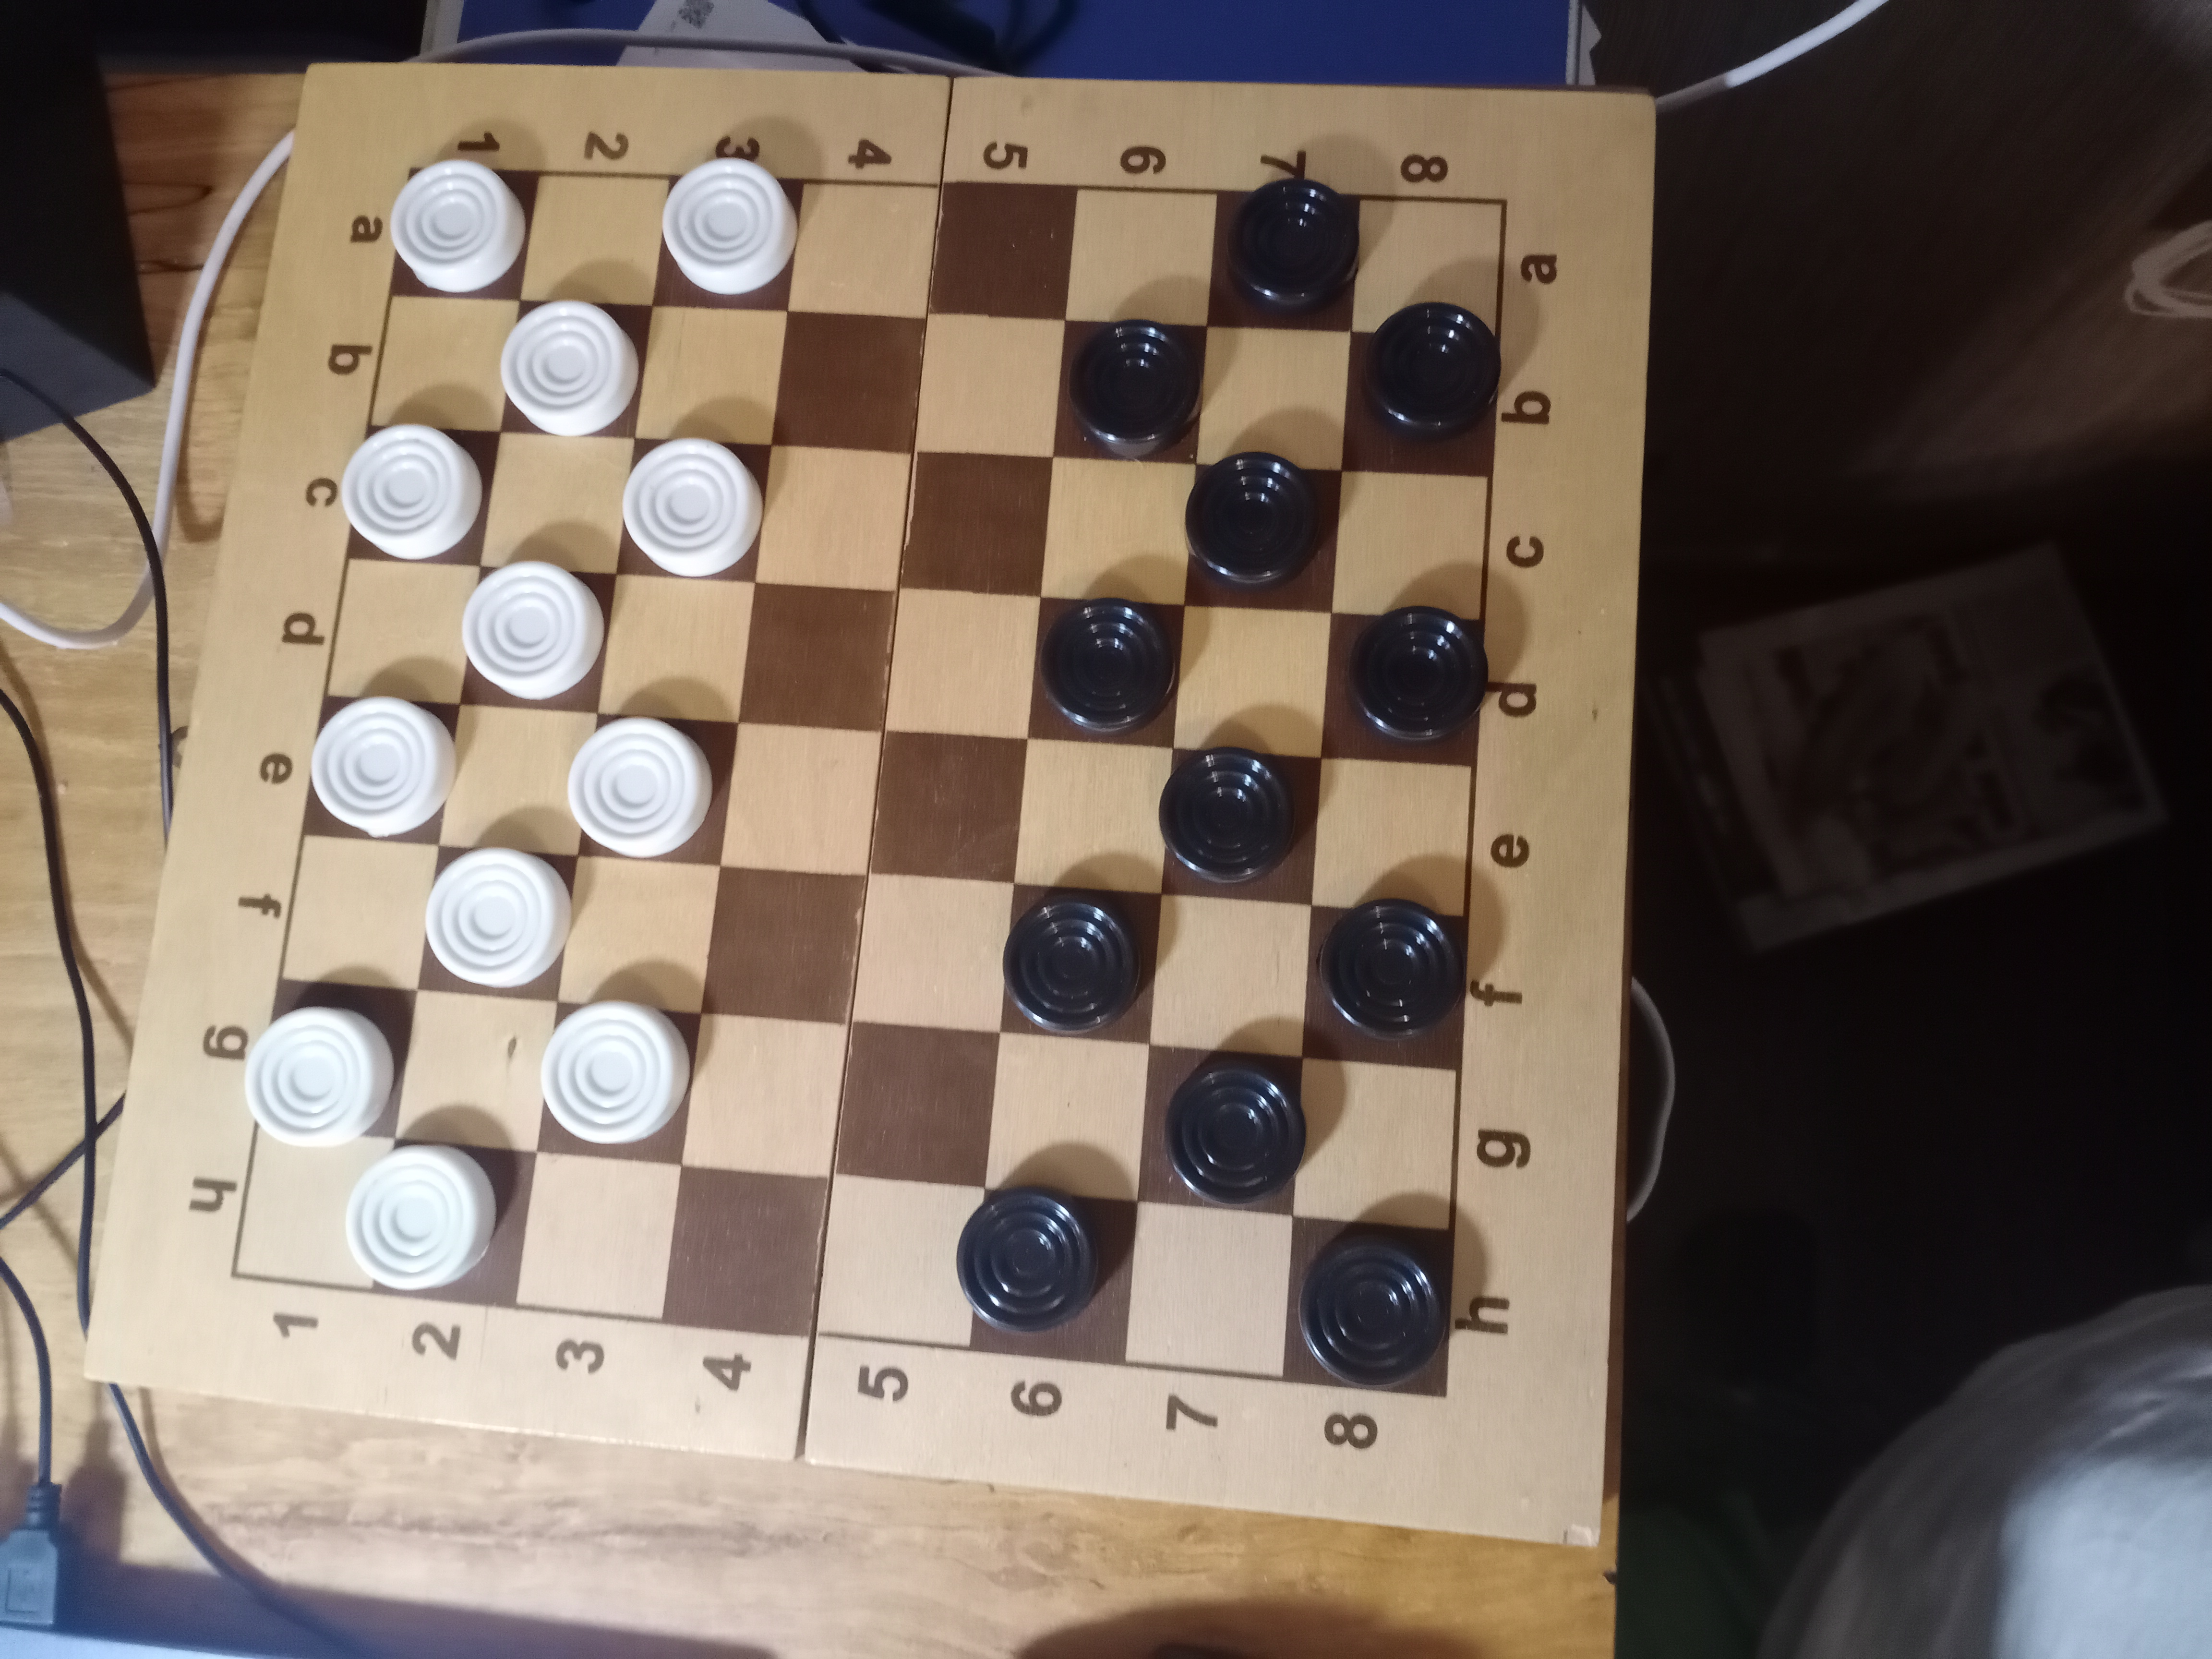White_Draught: (345, 1140, 536, 1307), (244, 979, 416, 1147), (536, 999, 700, 1166), (566, 713, 738, 866), (416, 843, 577, 1002), (307, 695, 460, 849), (462, 559, 615, 713), (651, 157, 803, 310), (617, 437, 772, 587), (341, 423, 500, 566), (500, 300, 651, 439), (390, 159, 538, 300)
